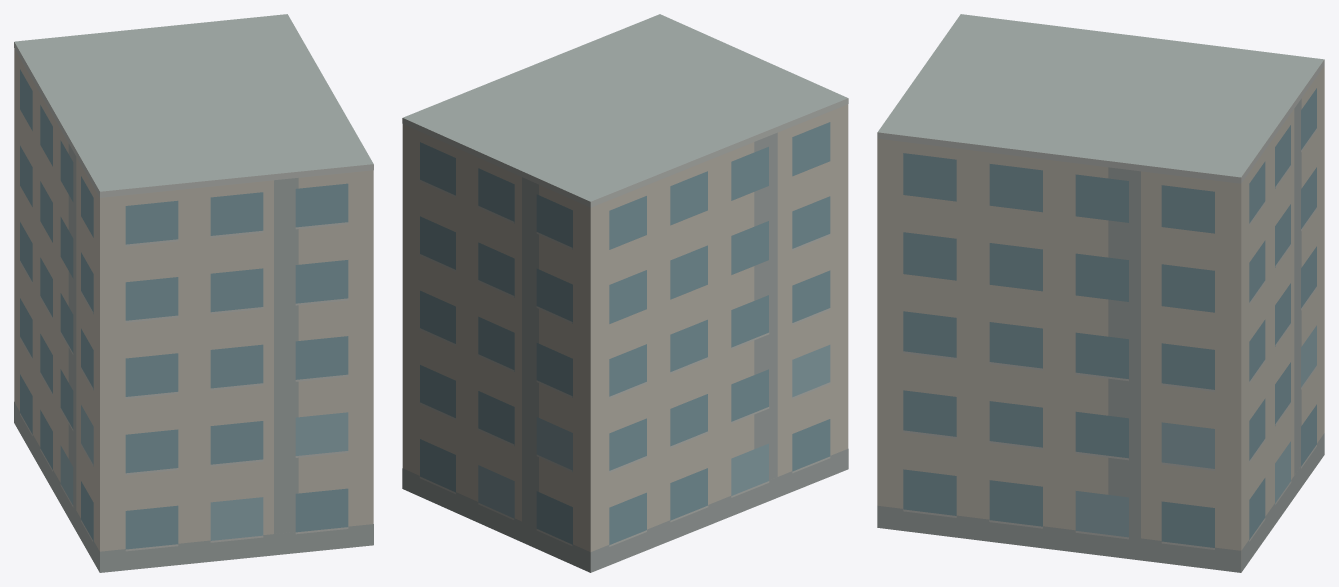
The model's file is survey-upis-32766886.glb.
The picture shows the model from 3 angles, left to right: view 1: azimuth 30°, elevation 25°; view 2: azimuth 150°, elevation 25°; view 3: azimuth 270°, elevation 25°; orthographic projection. The views are drawn at different scales.
Parts seen in each view (by area): view 1: survey-upis-32766886.tmp; view 2: survey-upis-32766886.tmp; view 3: survey-upis-32766886.tmp.
Part boxes in pixels (bbox=[...]): survey-upis-32766886.tmp: bbox=[14, 14, 373, 572]; survey-upis-32766886.tmp: bbox=[402, 14, 848, 572]; survey-upis-32766886.tmp: bbox=[877, 14, 1324, 572].
Bounding box in the file's own units: 13.53 × 15.25 × 15.64.
